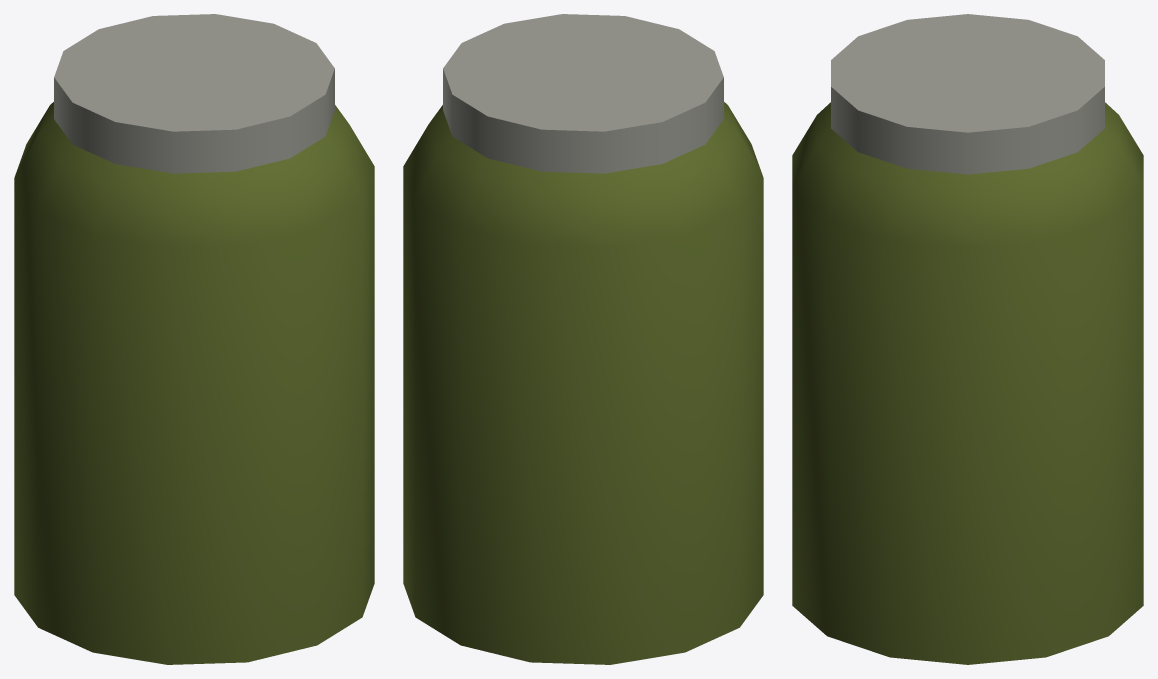
The model's file is tpl_dispensa_vaso_m_olive.glb.
The picture shows the model from 3 angles, left to right: view 1: azimuth 30°, elevation 25°; view 2: azimuth 150°, elevation 25°; view 3: azimuth 270°, elevation 25°; orthographic projection.
Visible parts, largest first — view 1: tpl_dispensa_vaso_m_olive; view 2: tpl_dispensa_vaso_m_olive; view 3: tpl_dispensa_vaso_m_olive.
Part boxes in pixels (box(x1,y1,x2,y2)): tpl_dispensa_vaso_m_olive: box(14, 14, 374, 664); tpl_dispensa_vaso_m_olive: box(403, 14, 763, 664); tpl_dispensa_vaso_m_olive: box(792, 14, 1143, 664).
Size of the model in its own units: 0.11 by 0.1737 by 0.1072.
